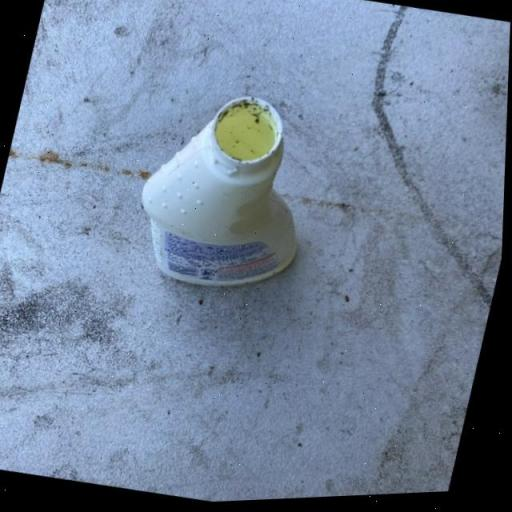plastic: (123, 77, 331, 306)
